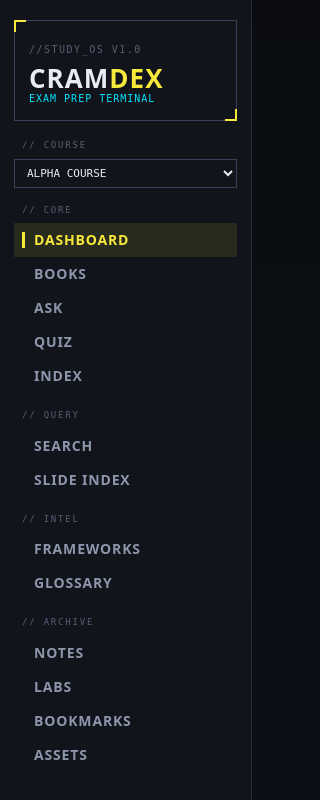
Test case: an activation failure shows an inline error and does not reload
Select "Beta Course" in the dropdown named "course" at (126, 173), box [14,158,237,188]
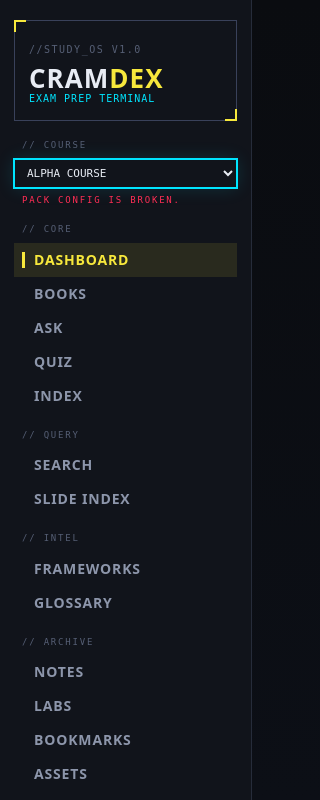
Expected: the text "Pack config is broken." is shown, [22,194,181,204]
